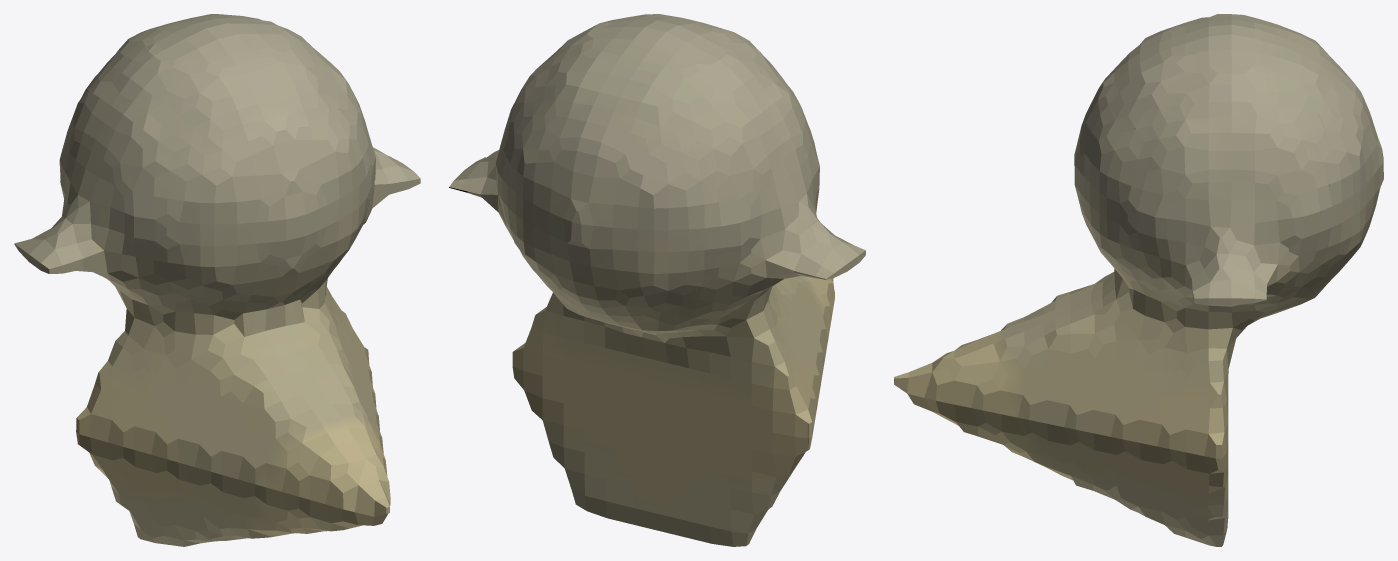
The model's file is moonGhost.glb.
3 renders of one model, left to right at view 1: azimuth 30°, elevation 25°; view 2: azimuth 150°, elevation 25°; view 3: azimuth 270°, elevation 25°, orthographic. The views are drawn at different scales.
Visible parts, largest first — view 1: geometry_0; view 2: geometry_0; view 3: geometry_0.
Part boxes in pixels (bbox=[...]): geometry_0: bbox=[14, 14, 420, 546]; geometry_0: bbox=[449, 14, 865, 546]; geometry_0: bbox=[894, 14, 1383, 546].
Bounding box in the file's own units: 0.7641 × 0.9702 × 0.8844.
1 material, 1 textured.
